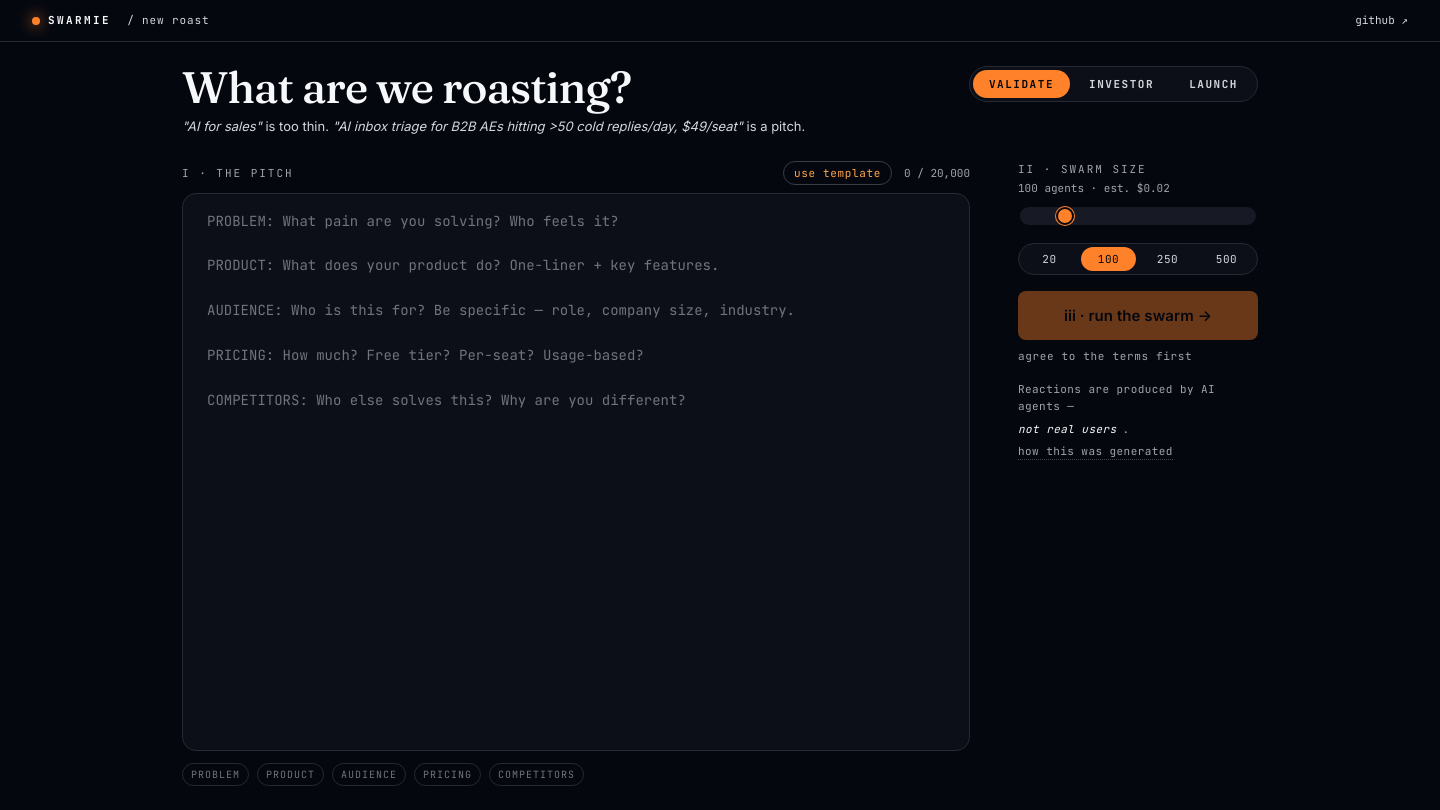
Test: PitchInput — runHint › shows "fill the pitch first" when consent checked but pitch too short
Replace the text in the text box with "Short" at (576, 472), box [182, 193, 970, 750]
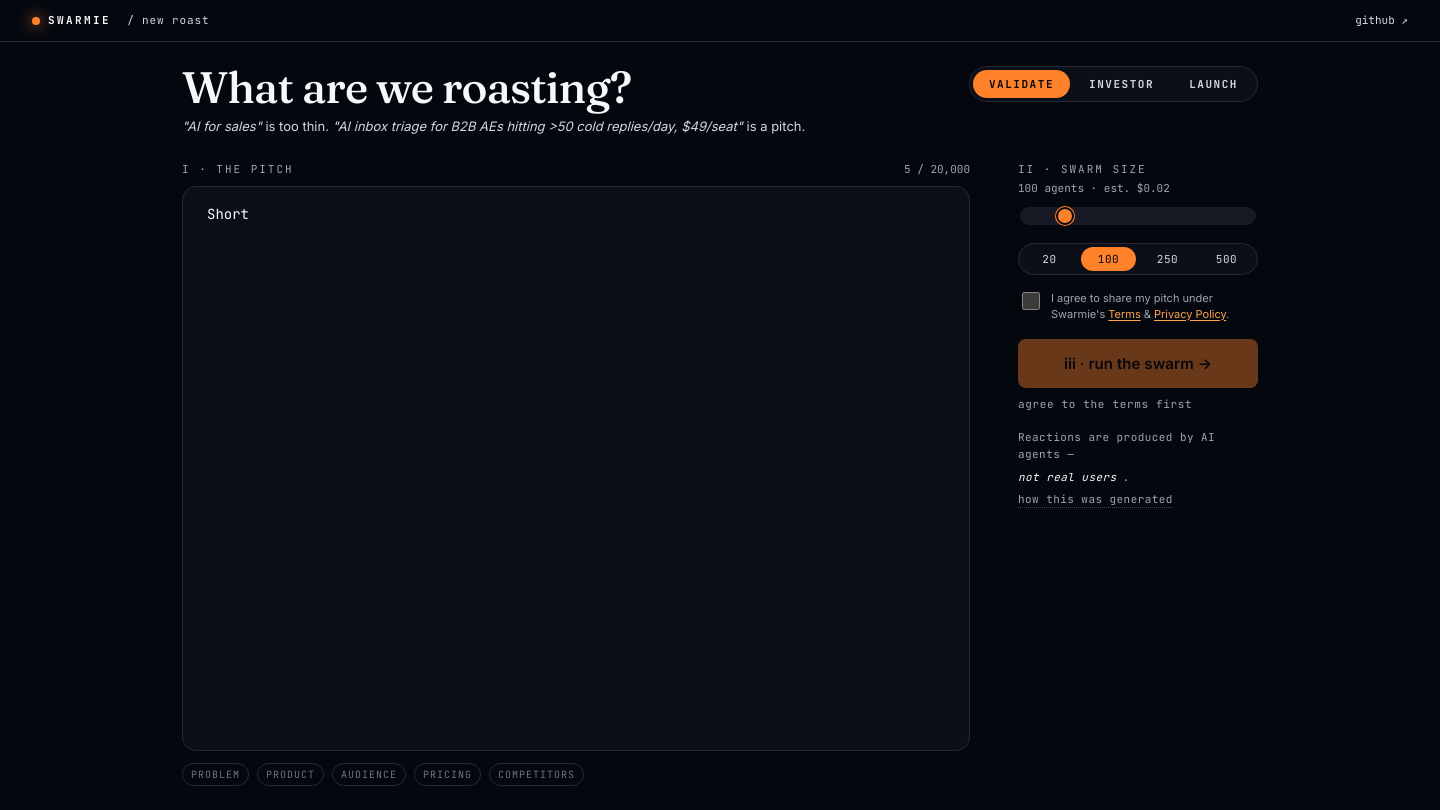
Click the checkbox at (1031, 301), box [1022, 292, 1040, 310]
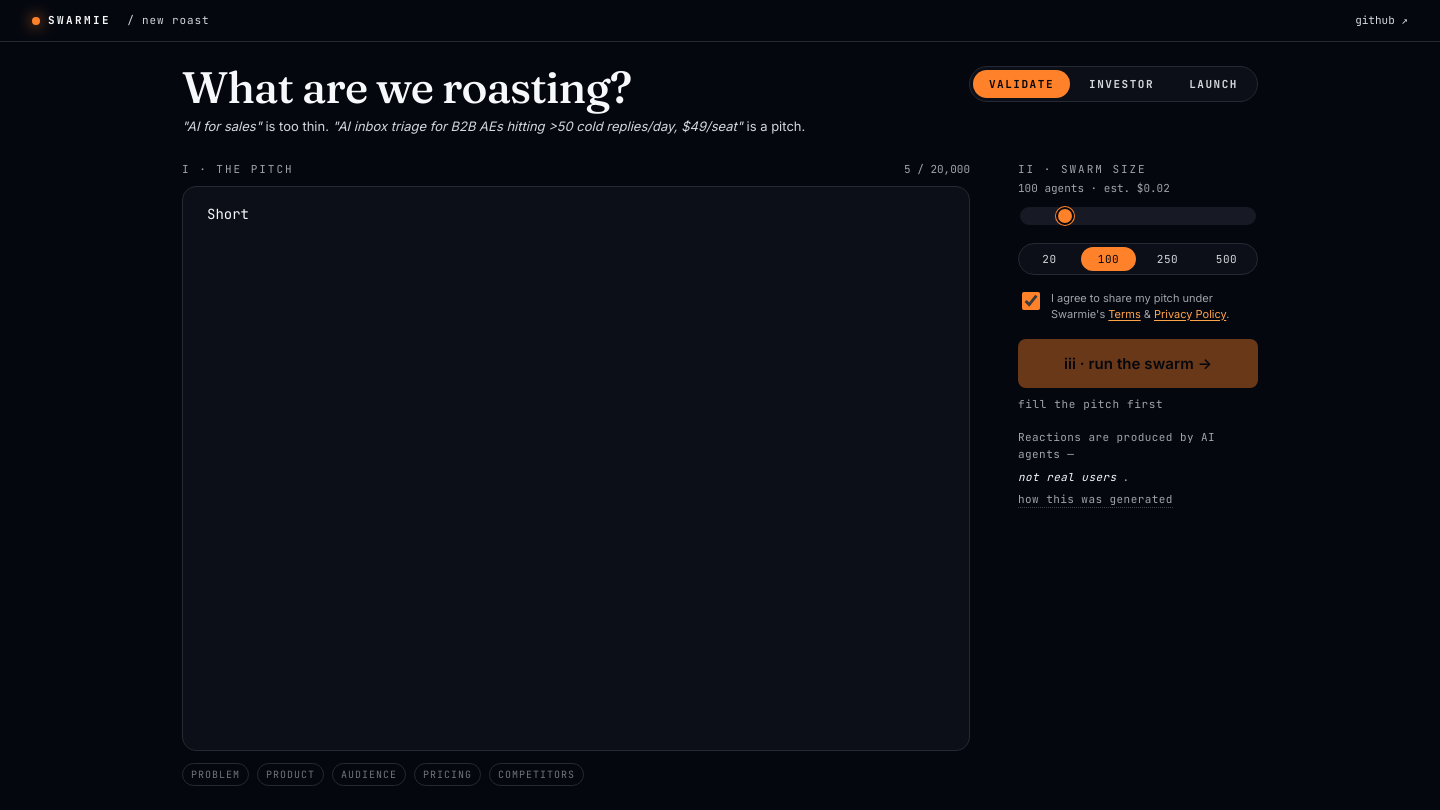
Result: the text with class "actions-hint" reads "fill the pitch first" at [1018, 397, 1163, 411]
